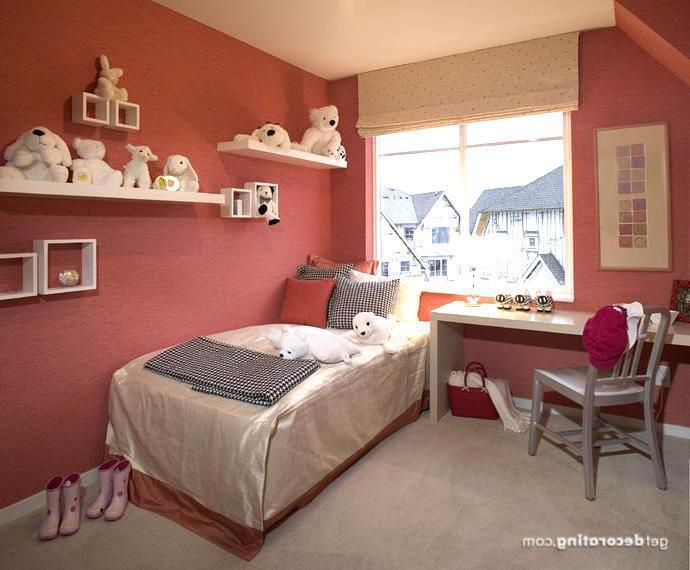Otro Obstaculo: (451, 363, 512, 435), (32, 470, 86, 547), (82, 459, 132, 521)
